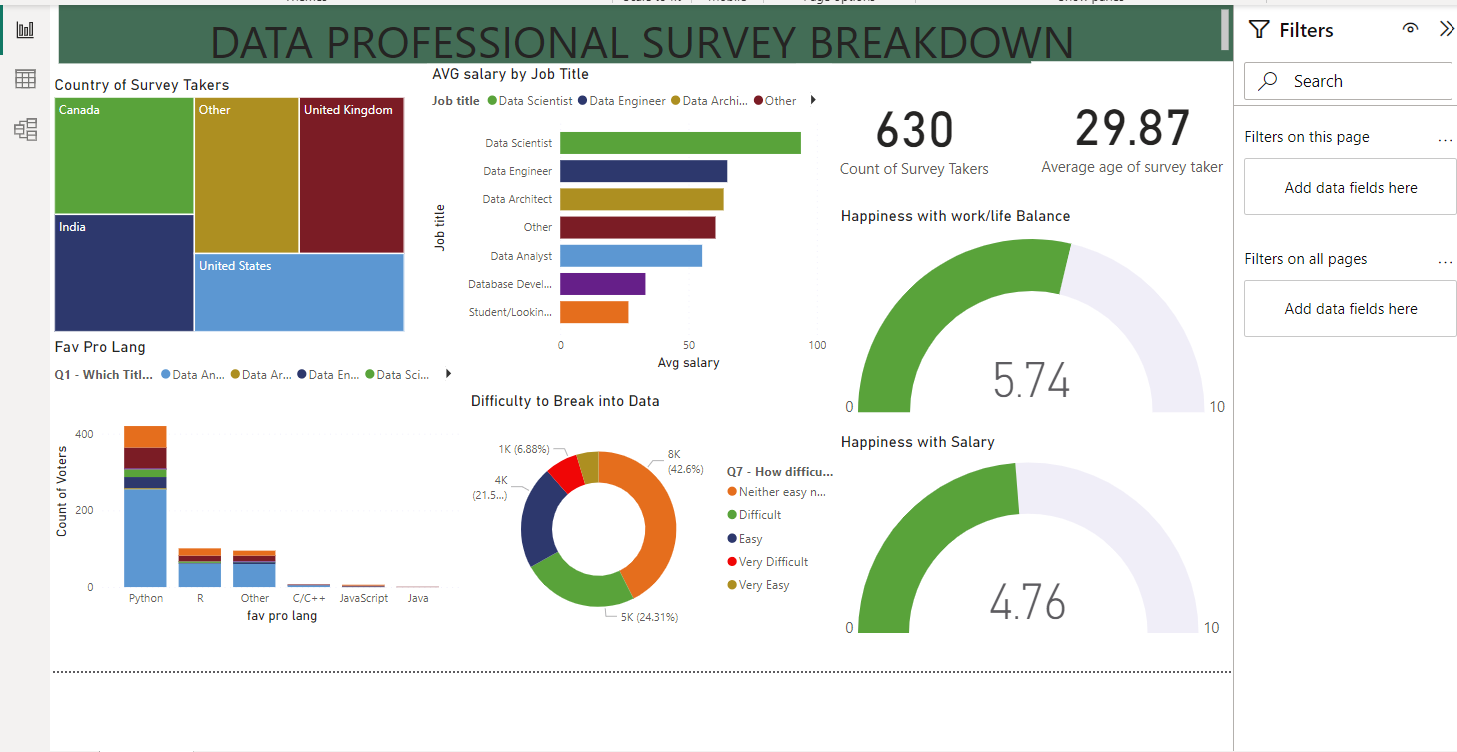

The page's visual inventory and layout, read from the dashboard file:
{"tool":"powerbi","page":{"name":"Page 1","canvas":[1280,720],"ordinal":0},"visuals":[{"type":"textbox","box":[9.6,0,1270.7,63.1],"z":0},{"type":"card","fields":{"Values":["CountNonNull(Data Professional Survey.Unique ID)"]},"box":[806.9,63,255.1,149.1],"z":1000},{"type":"card","fields":{"Values":["Avg(Data Professional Survey.Q10 - Current Age)"]},"box":[1062.1,61.5,218.3,150.6],"z":2000},{"type":"barChart","title":"AVG salary by Job Title","fields":{"Category":["Data Professional Survey.Q1 - Which Title Best Fits your Current Role?.1"],"Y":["Avg(Data Professional Survey.Avg salarynew)"],"Series":["Data Professional Survey.Q1 - Which Title Best Fits your Current Role?.1"]},"box":[408.8,63,436.5,336.6],"z":3000},{"type":"columnChart","title":"Fav Pro Lang","fields":{"Category":["Data Professional Survey.Q5 - Favorite Programming Language.1"],"Y":["CountNonNull(Data Professional Survey.Unique ID)"],"Series":["Data Professional Survey.Q1 - Which Title Best Fits your Current Role?.1"]},"box":[0,359.7,450.3,313.5],"z":4000},{"type":"treemap","title":"Country of Survey Takers","fields":{"Group":["Data Professional Survey.Q11 - Which Country do you live in?.1"],"Values":["Count(Data Professional Survey.Q11 - Which Country do you live in?.1)"]},"box":[9.2,76.8,388.9,282.8],"z":5000},{"type":"gauge","title":"Happiness with work/life Balance","fields":{"Y":["Avg(Data Professional Survey.Q6 - How Happy are you in your Current Position with the following? (Work/Life Balance))"],"MinValue":["Min(Data Professional Survey.Q6 - How Happy are you in your Current Position with the following? (Work/Life Balance))1"],"MaxValue":["Max(Data Professional Survey.Q6 - How Happy are you in your Current Position with the following? (Work/Life Balance))2"]},"box":[850,218.3,430.4,244.4],"z":6000},{"type":"gauge","title":"Happiness with Salary","fields":{"Y":["Avg(Data Professional Survey.Q6 - How Happy are you in your Current Position with the following? (Upward Mobility))"],"MinValue":["Min(Data Professional Survey.Q6 - How Happy are you in your Current Position with the following? (Upward Mobility))"],"MaxValue":["Max(Data Professional Survey.Q6 - How Happy are you in your Current Position with the following? (Upward Mobility))"]},"box":[850,462.6,424.2,235.2],"z":7000},{"type":"donutChart","title":"Difficulty to Break into Data","fields":{"Category":["Data Professional Survey.Q7 - How difficult was it for you to break into Data?"],"Y":["Sum(Data Professional Survey.Q10 - Current Age)"],"Series":["Data Professional Survey.Q7 - How difficult was it for you to break into Data?"]},"box":[450.3,418.1,405.8,279.7],"z":8000}]}

Visuals, with their boxes on the page's 1280x720 design canvas (x1, y1, x2, y2). These are canvas units, not pixel positions in the 1457x752 screenshot, which may show the page scaled, cropped or inside an application window:
textbox: [left=10, top=0, right=1280, bottom=63]
card - CountNonNull(Data Professional Survey.Unique ID): [left=807, top=63, right=1062, bottom=212]
card - Avg(Data Professional Survey.Q10 - Current Age): [left=1062, top=62, right=1280, bottom=212]
"AVG salary by Job Title" barChart: [left=409, top=63, right=845, bottom=400]
"Fav Pro Lang" columnChart: [left=0, top=360, right=450, bottom=673]
"Country of Survey Takers" treemap: [left=9, top=77, right=398, bottom=360]
"Happiness with work/life Balance" gauge: [left=850, top=218, right=1280, bottom=463]
"Happiness with Salary" gauge: [left=850, top=463, right=1274, bottom=698]
"Difficulty to Break into Data" donutChart: [left=450, top=418, right=856, bottom=698]
